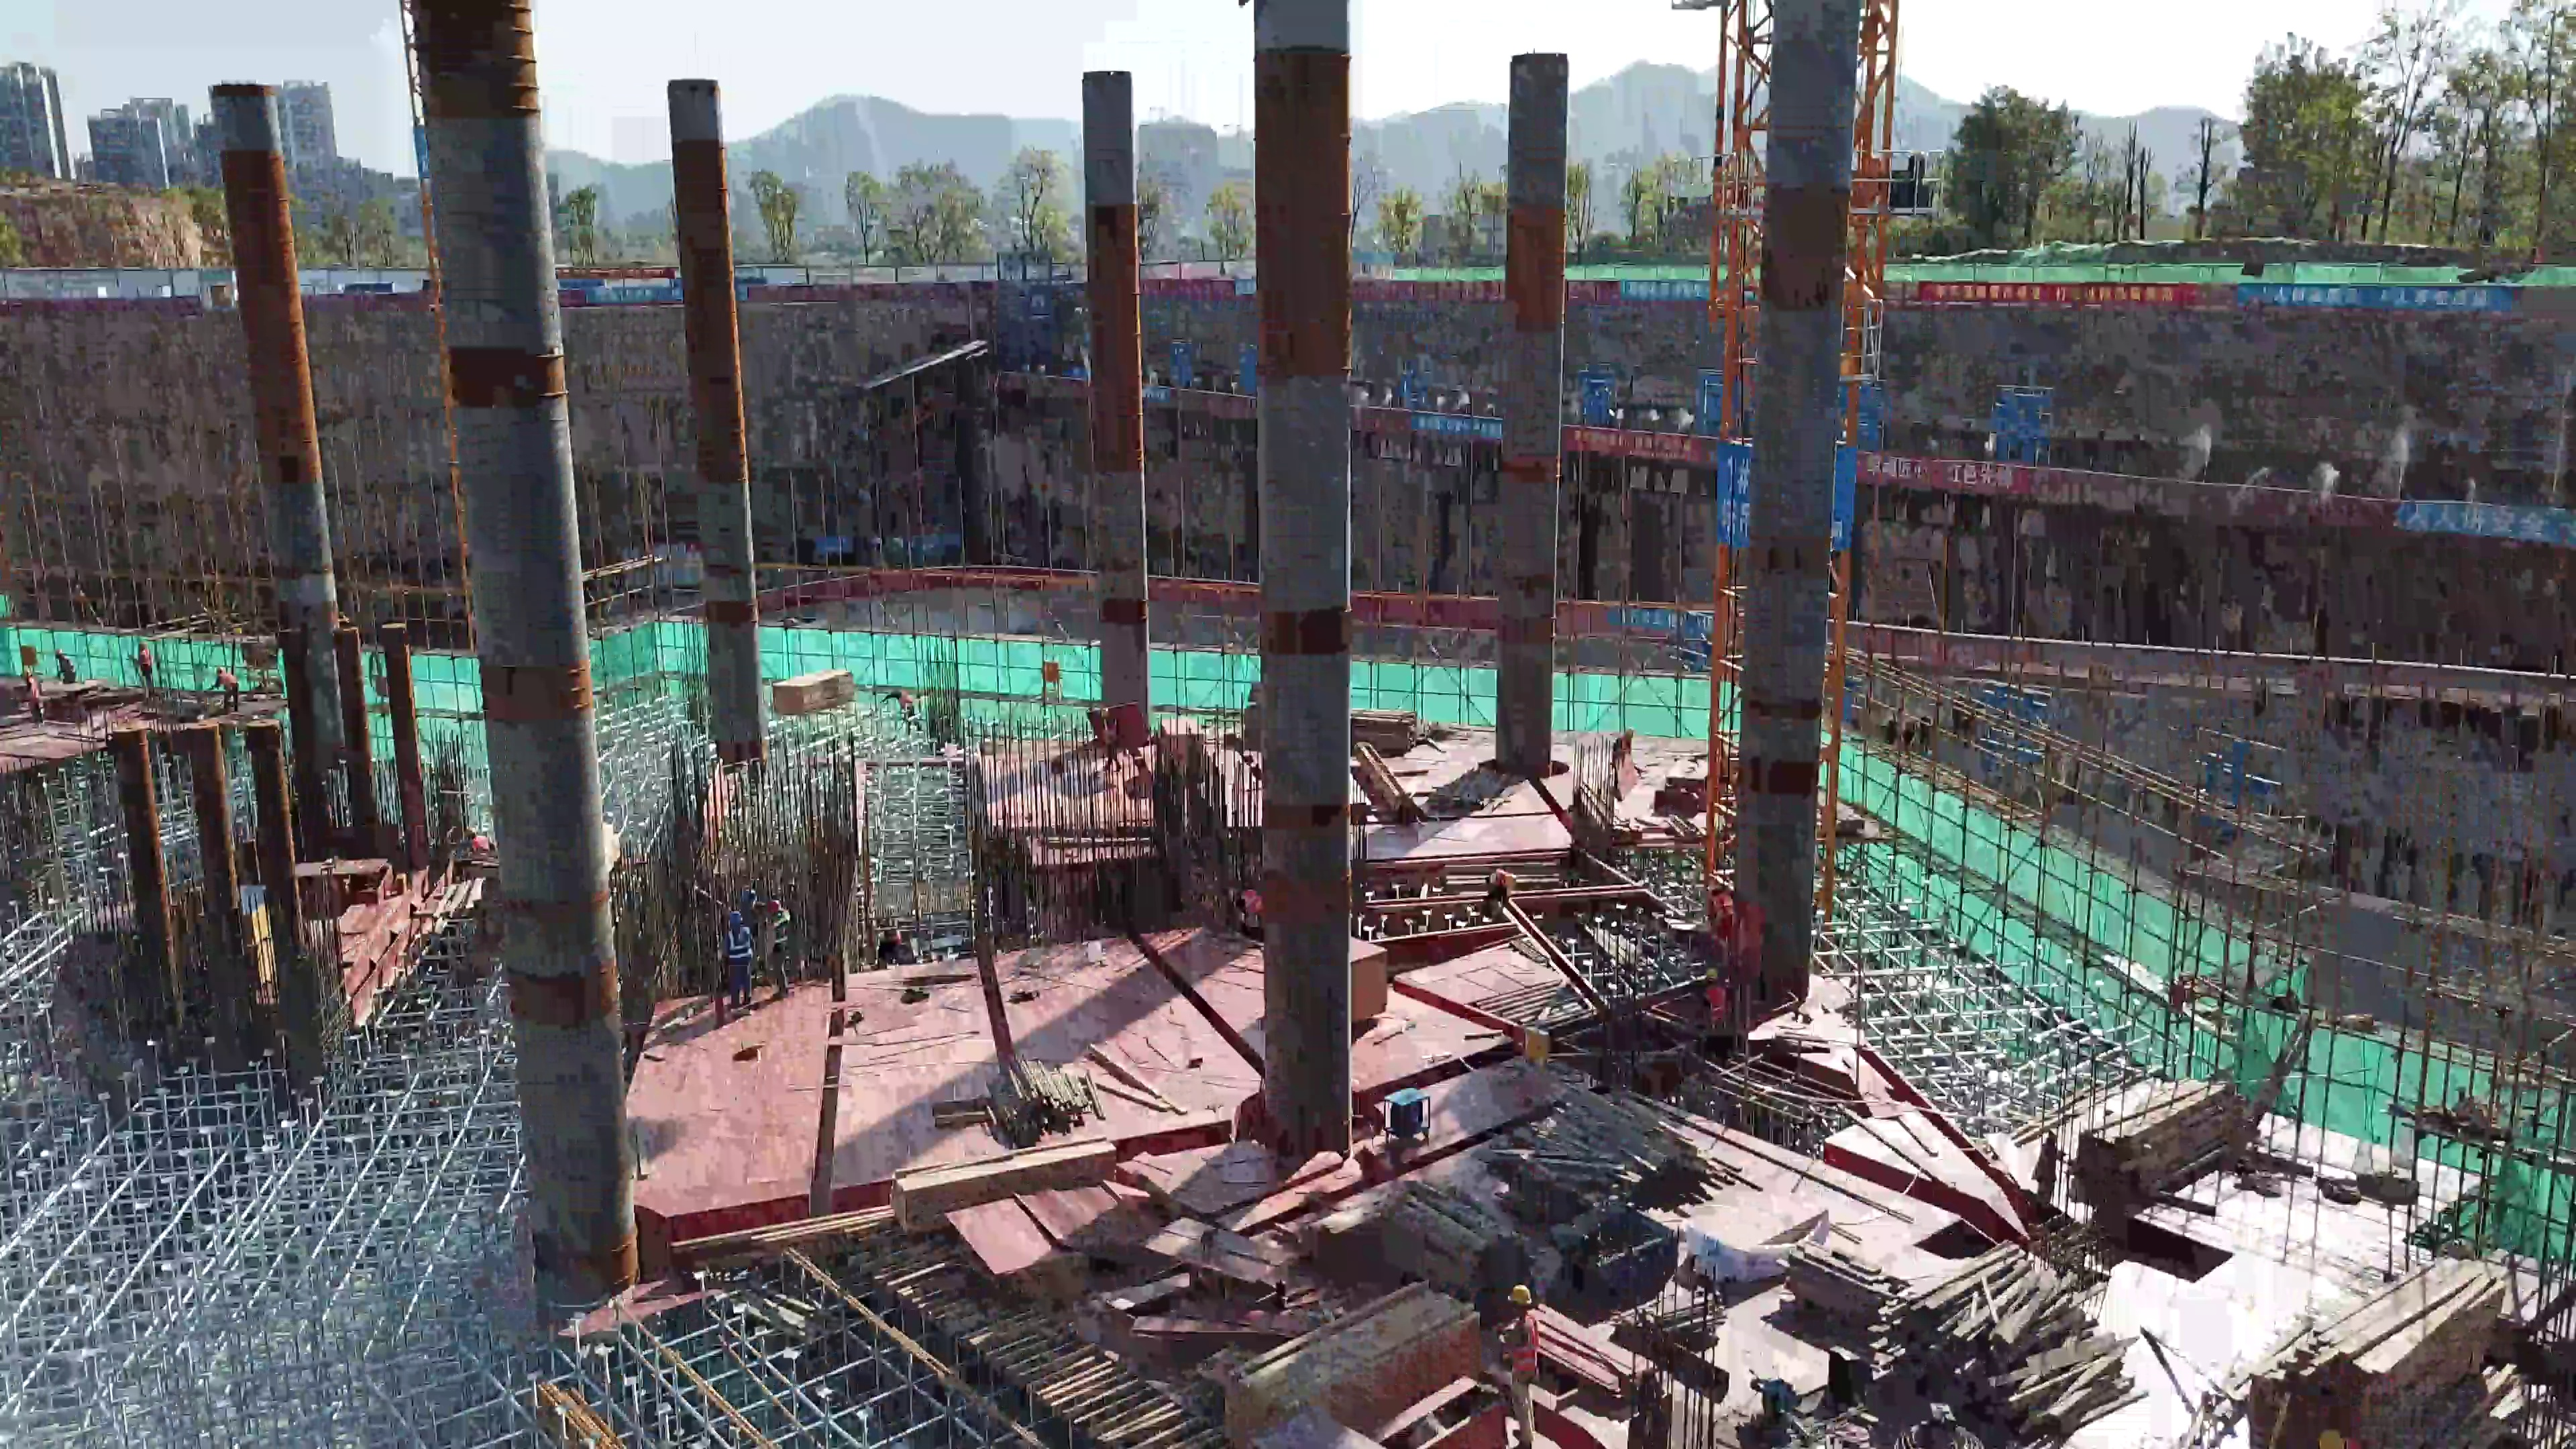ebox: (1525, 1024, 1558, 1075)
helmet: (1503, 1285, 1535, 1305), (765, 900, 786, 916), (729, 910, 745, 927), (1704, 967, 1723, 982), (745, 888, 761, 904)
person: (1484, 1282, 1546, 1449), (717, 907, 765, 1013), (767, 894, 800, 998), (743, 884, 780, 967), (1697, 965, 1735, 1030), (1096, 714, 1133, 780), (867, 921, 909, 967)
vest: (1502, 1316, 1540, 1370), (725, 928, 751, 962), (1705, 987, 1727, 1022)
wood: (2235, 1240, 2535, 1448), (1891, 1247, 2118, 1436), (2082, 1058, 2248, 1203), (1506, 1091, 1699, 1198)
